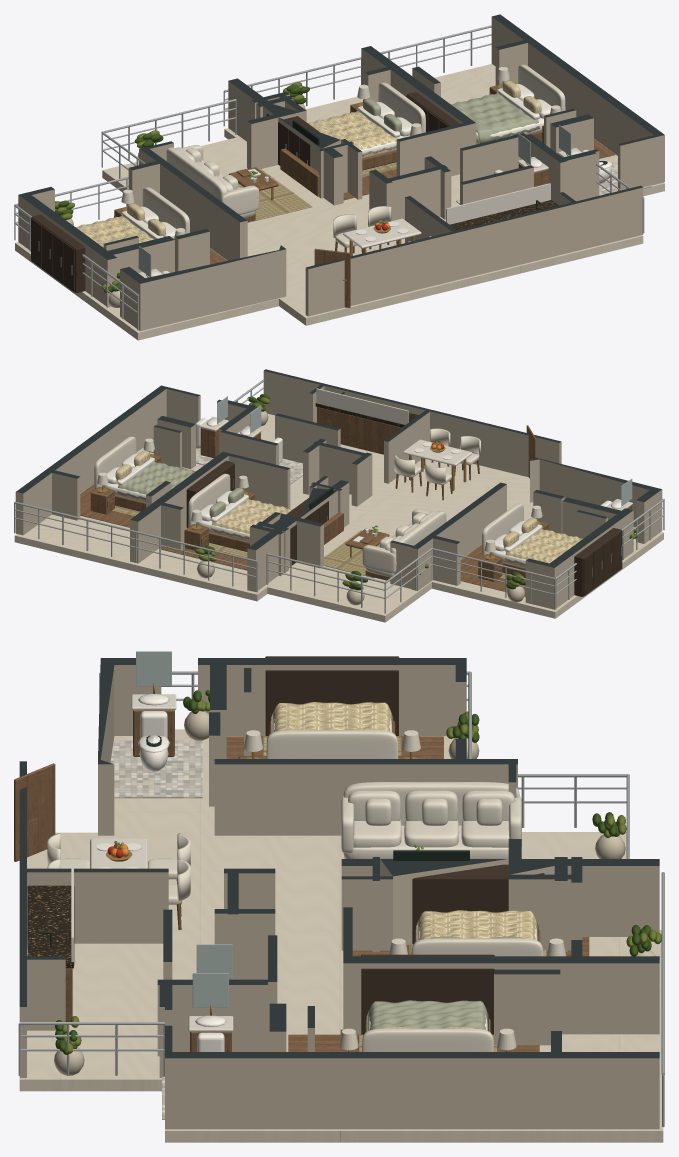
3 renders of one model, top to bottom at view 1: azimuth 30°, elevation 25°; view 2: azimuth 150°, elevation 25°; view 3: azimuth 270°, elevation 25°, orthographic. The views are drawn at different scales.
Parts seen in each view (by area): view 1: Source-traced internal and perimeter walls • Wall, Continuous apartment foundation, Soft jacquard duvet with folds.002, Soft jacquard duvet with folds.001, Backsplash, Living patterned carpet, Soft jacquard duvet with folds, Sofa back, Padded headboard.001, Padded headboard.002, Padded headboard, Dining top (+12 smaller); view 2: Source-traced internal and perimeter walls • Wall, Continuous apartment foundation, Base cabinets, Soft jacquard duvet with folds, Backsplash, Soft jacquard duvet with folds.001, Soft jacquard duvet with folds.002, Living patterned carpet, Padded headboard.002, Padded headboard.001, Padded headboard, Full bedroom wood flooring (+21 smaller); view 3: Source-traced internal and perimeter walls • Wall, Continuous apartment foundation, Fitted dark wardrobe.002, Fitted dark wardrobe, Bathroom mosaic floor, Fitted dark wardrobe.001, Padded headboard, Deep green kitchen stone, Soft jacquard duvet with folds.002, Soft jacquard duvet with folds.001, Soft jacquard duvet with folds, Padded headboard.002 (+24 smaller).
Part boxes in pixels (x1,y1,x2,y2): Source-traced internal and perimeter walls • Wall: (18,14,664,331); Continuous apartment foundation: (15,64,664,340); Soft jacquard duvet with folds.002: (451,92,539,143); Soft jacquard duvet with folds.001: (308,110,398,156); Backsplash: (446,183,550,224); Living patterned carpet: (238,169,312,222); Soft jacquard duvet with folds: (75,215,153,247); Sofa back: (166,147,227,200); Padded headboard.001: (378,82,425,132); Padded headboard.002: (518,64,565,111); Padded headboard: (142,187,189,233); Dining top: (343,218,421,248); Source-traced internal and perimeter walls • Wall: (15,369,662,609); Continuous apartment foundation: (14,414,663,622); Base cabinets: (317,407,401,454); Soft jacquard duvet with folds: (504,529,582,565); Backsplash: (316,388,408,424); Soft jacquard duvet with folds.001: (211,499,292,539); Soft jacquard duvet with folds.002: (117,461,195,500); Living patterned carpet: (324,530,379,577); Padded headboard.002: (94,436,136,489); Padded headboard.001: (188,473,230,526); Padded headboard: (482,503,523,556); Full bedroom wood flooring: (460,544,525,596); Source-traced internal and perimeter walls • Wall: (19,658,659,1129); Continuous apartment foundation: (19,729,663,1142); Fitted dark wardrobe.002: (361,954,494,1034); Fitted dark wardrobe: (265,656,399,735); Bathroom mosaic floor: (110,740,202,798); Fitted dark wardrobe.001: (412,864,544,943); Padded headboard: (266,730,398,758); Deep green kitchen stone: (27,885,74,965); Soft jacquard duvet with folds.002: (366,1000,488,1031); Soft jacquard duvet with folds.001: (416,910,538,940); Soft jacquard duvet with folds: (271,702,393,732); Padded headboard.002: (362,1028,493,1051).
Bounding box in the file's own units: 13.85 × 1.7 × 9.32.
26 materials, 6 textured.
